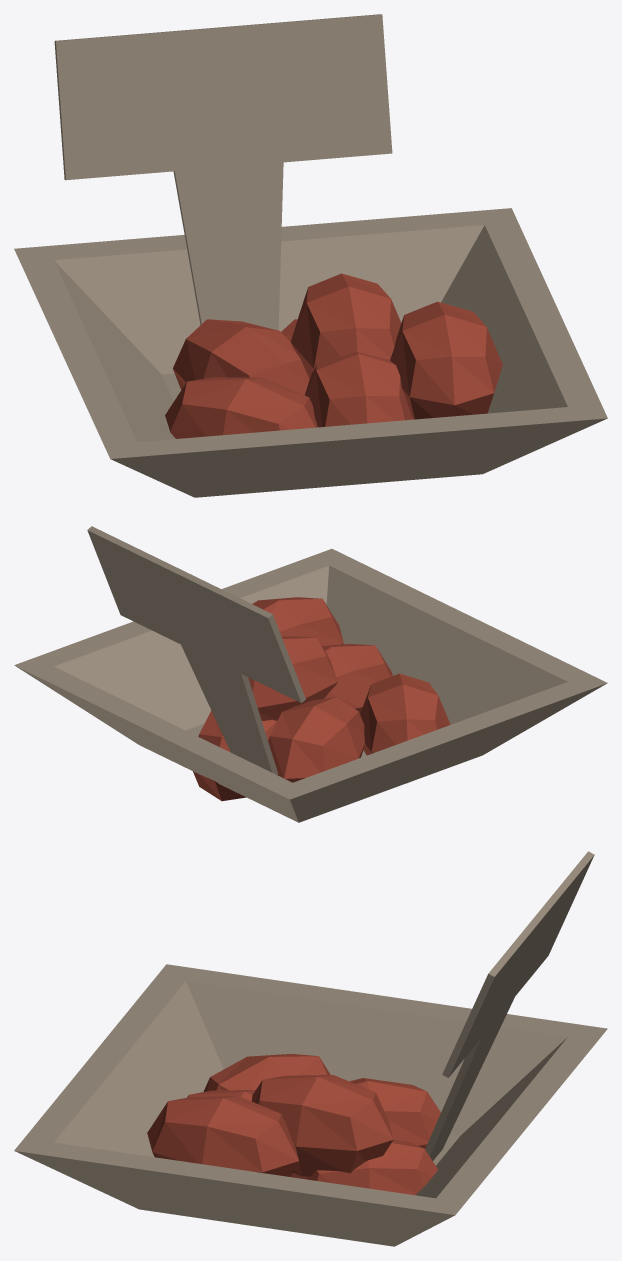
File: redSeeds-0,0.glb
The picture shows the model from 3 angles, top to bottom: view 1: azimuth 30°, elevation 25°; view 2: azimuth 150°, elevation 25°; view 3: azimuth 270°, elevation 25°; orthographic projection. The views are drawn at different scales.
Visible parts, largest first — view 1: Cubo.228; view 2: Cubo.228; view 3: Cubo.228.
Part boxes in pixels (x1,y1,x2,y2): Cubo.228: [14, 14, 607, 497]; Cubo.228: [14, 526, 607, 822]; Cubo.228: [14, 851, 607, 1246].
Size of the model in its own units: 0.5116 by 0.2989 by 0.5116.
